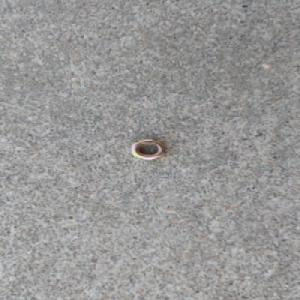Nut: (130, 138, 166, 160)
